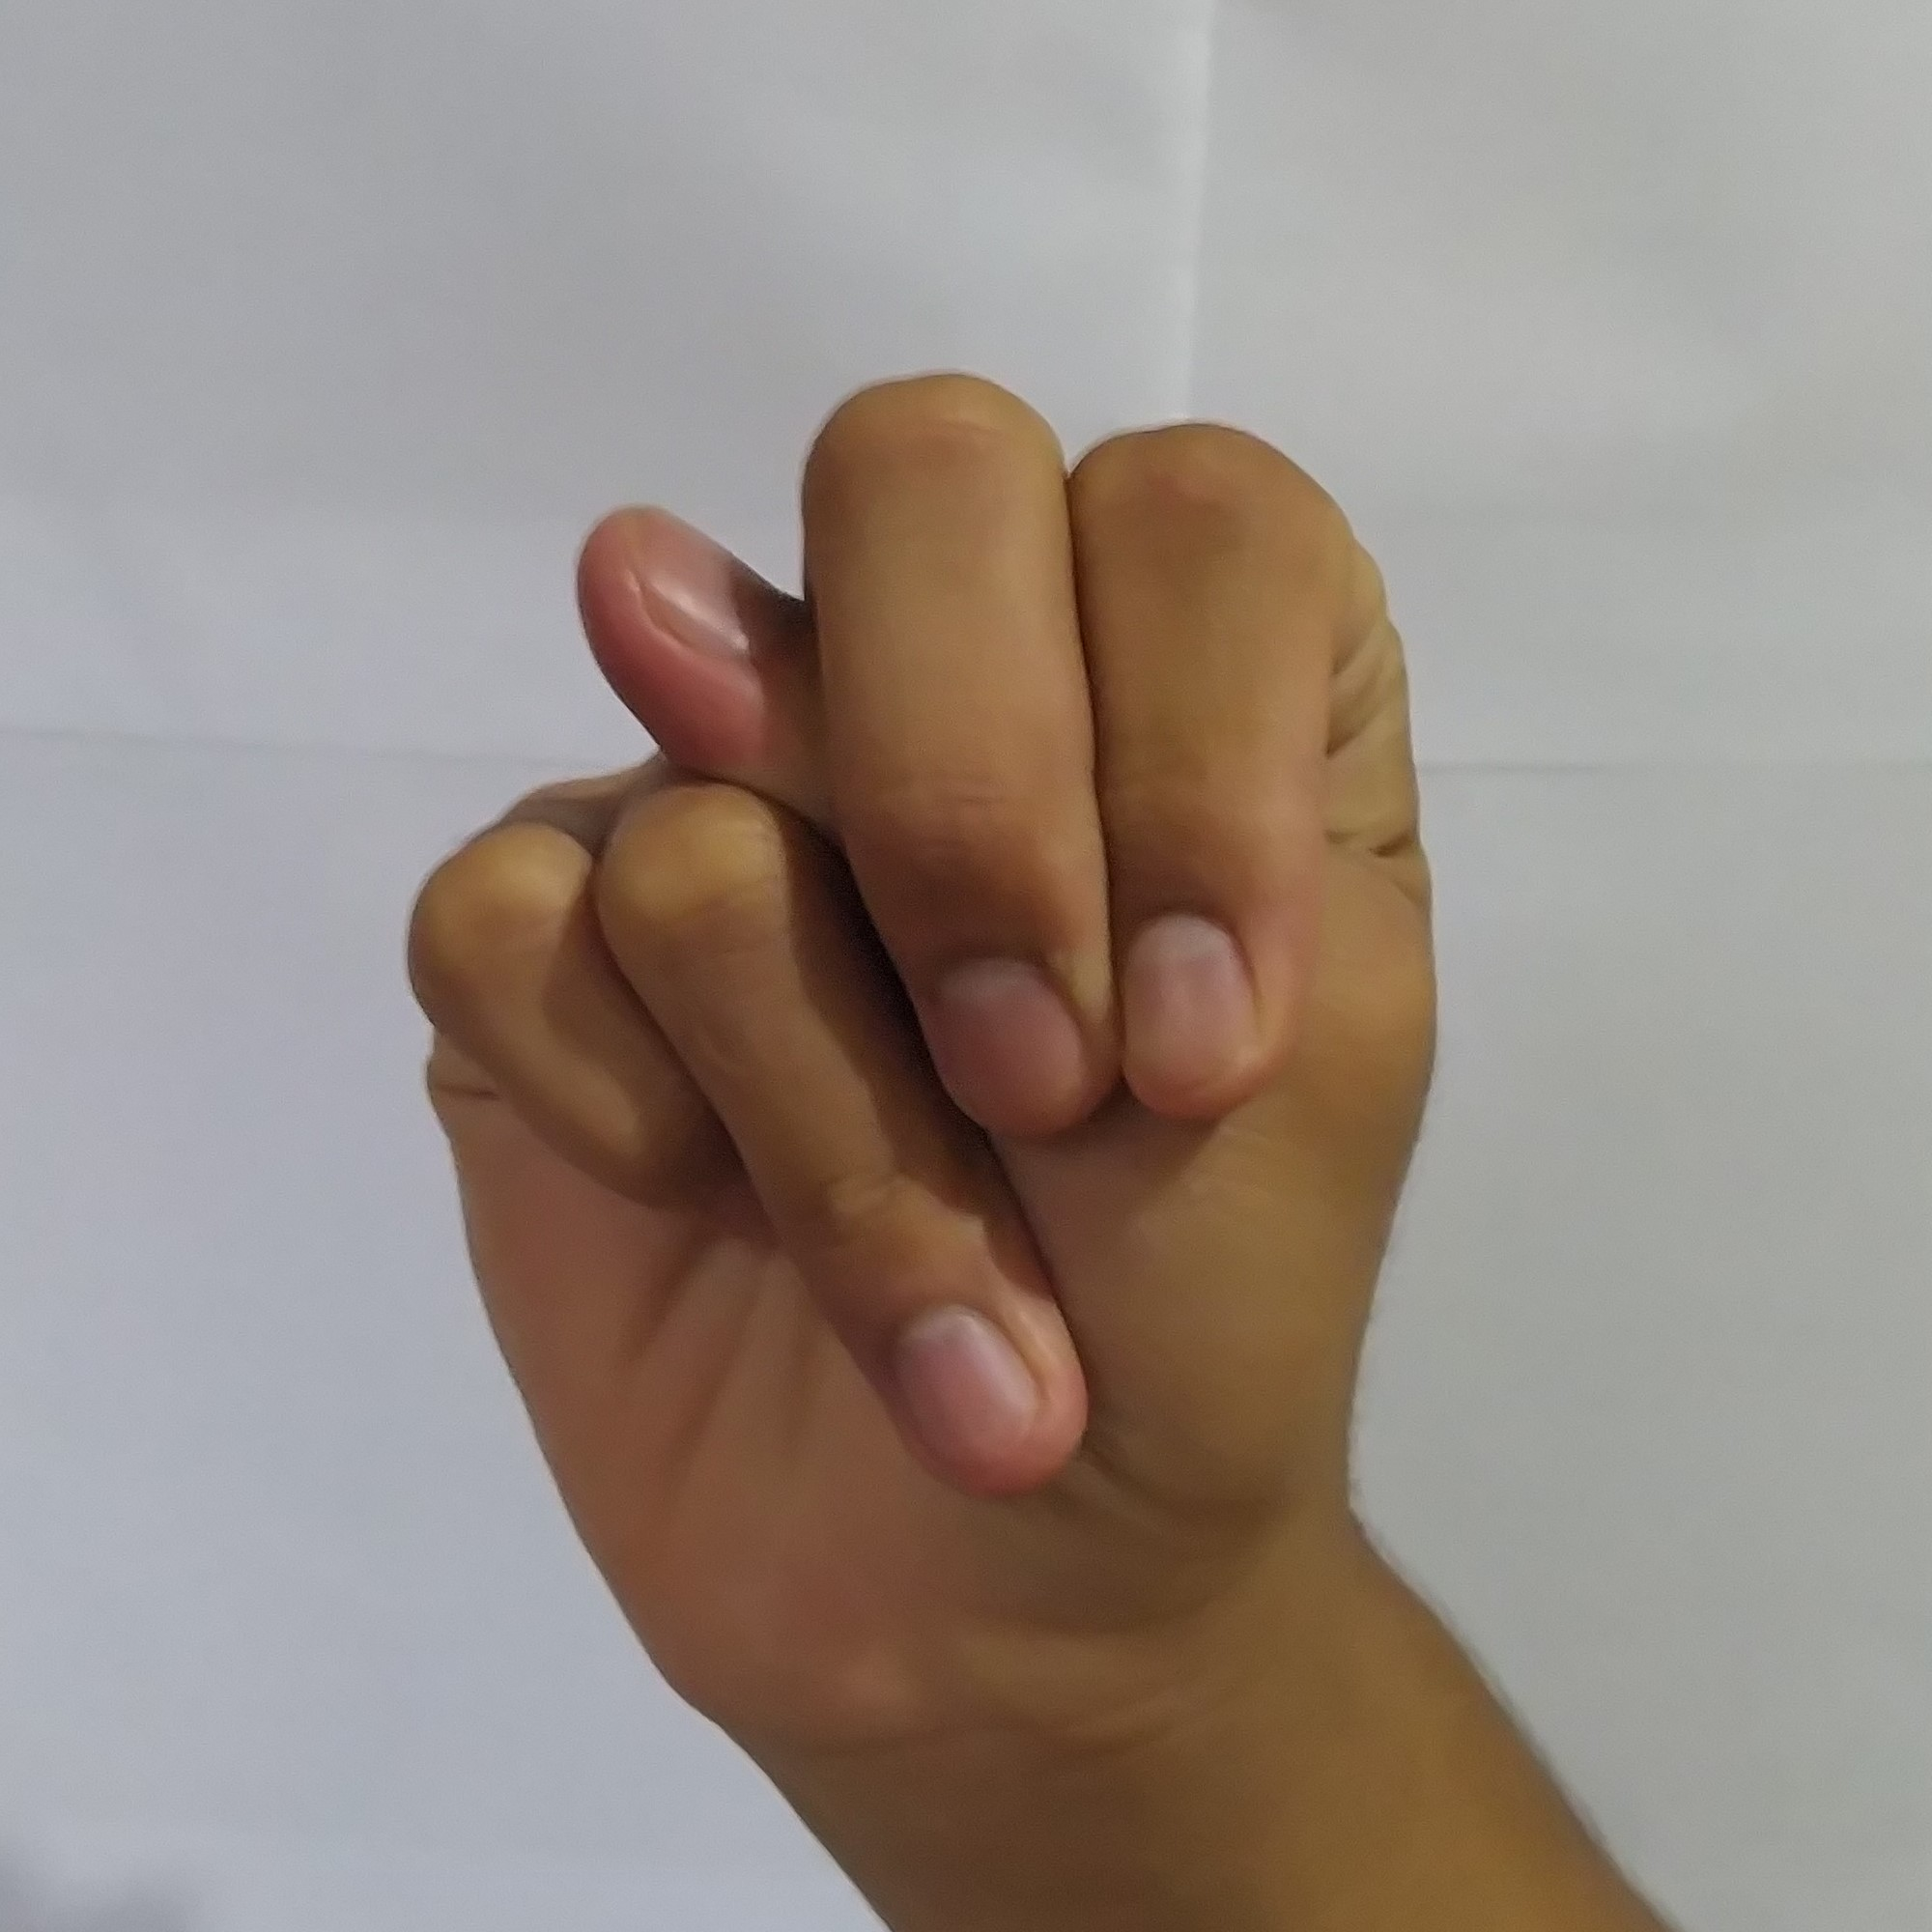N: (370, 341, 1468, 1679)
